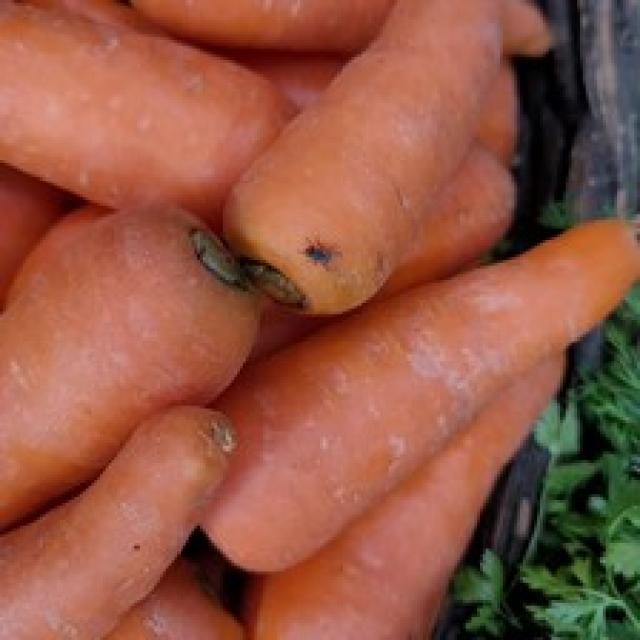Fresh_Carrot: (203, 220, 640, 569), (208, 0, 498, 321)
